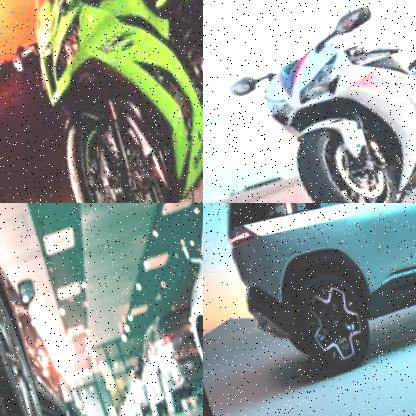bike: (206, 0, 416, 203)
car: (203, 203, 416, 391), (0, 203, 60, 416), (145, 203, 203, 403), (116, 309, 203, 416)
